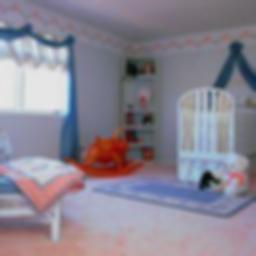Otro Obstaculo: (73, 135, 145, 179), (203, 155, 251, 197)
